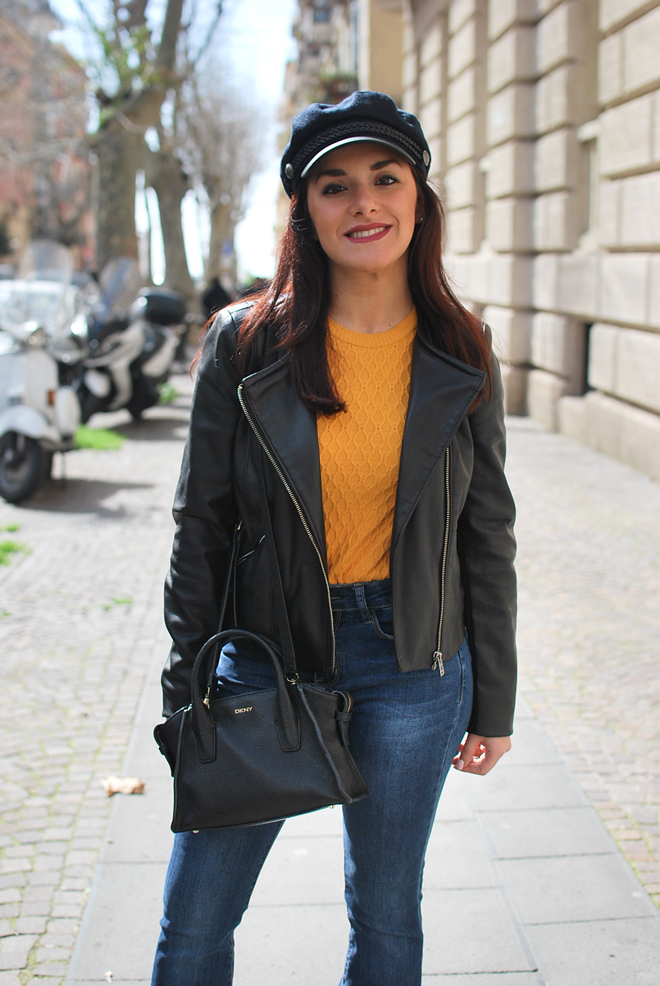jeans: (150, 630, 475, 986)
